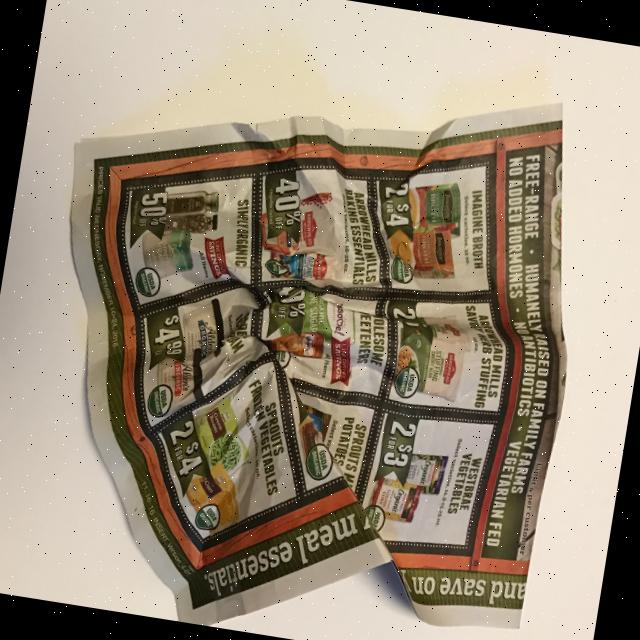paper: (3, 27, 608, 640)
